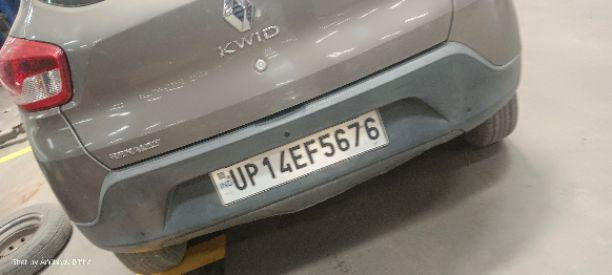license_plate: (207, 108, 389, 206)
